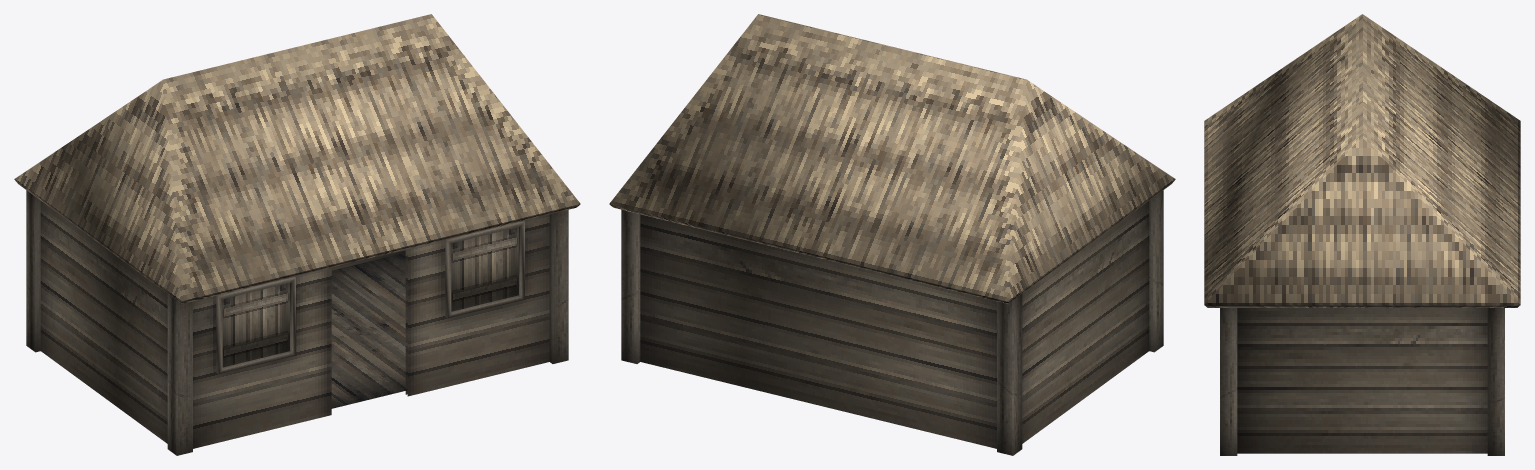
The model's file is oga_cottage.glb.
3 renders of one model, left to right at view 1: azimuth 30°, elevation 25°; view 2: azimuth 150°, elevation 25°; view 3: azimuth 270°, elevation 25°, orthographic. The views are drawn at different scales.
Visible parts, largest first — view 1: oga_cottage; view 2: oga_cottage; view 3: oga_cottage.
Boxes of the visible parts, box(x1,y1,x2,y2) form: oga_cottage: box(14, 14, 580, 455); oga_cottage: box(609, 14, 1175, 455); oga_cottage: box(1204, 14, 1520, 455).
Size of the model in its own units: 5.65 by 4.14 by 4.09.
1 material, 1 textured.
